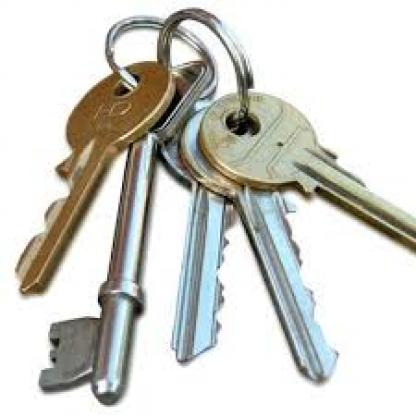key: (42, 56, 196, 397), (189, 105, 352, 376), (214, 80, 416, 248), (20, 55, 140, 296), (162, 128, 242, 355)
